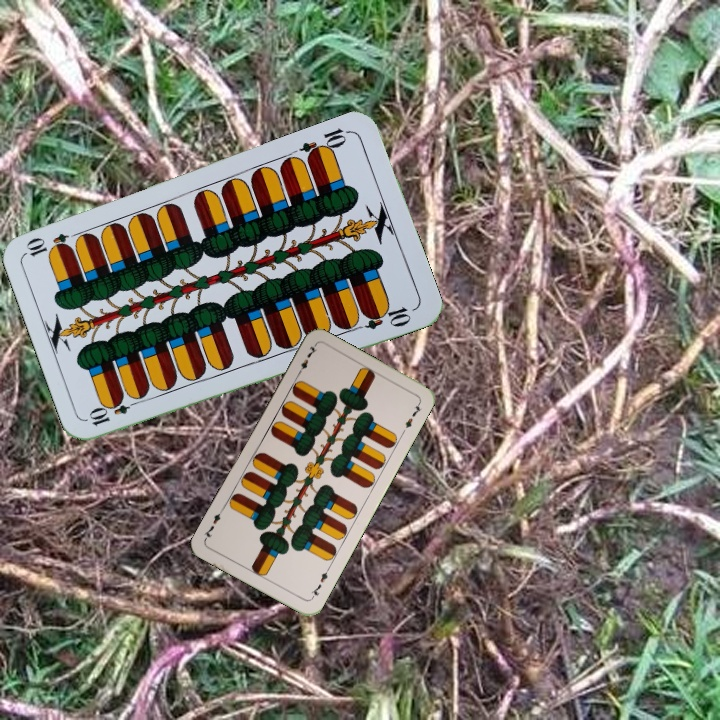E10: (296, 124, 353, 163), (85, 394, 143, 429)
E7: (293, 341, 320, 378), (307, 564, 332, 602)
